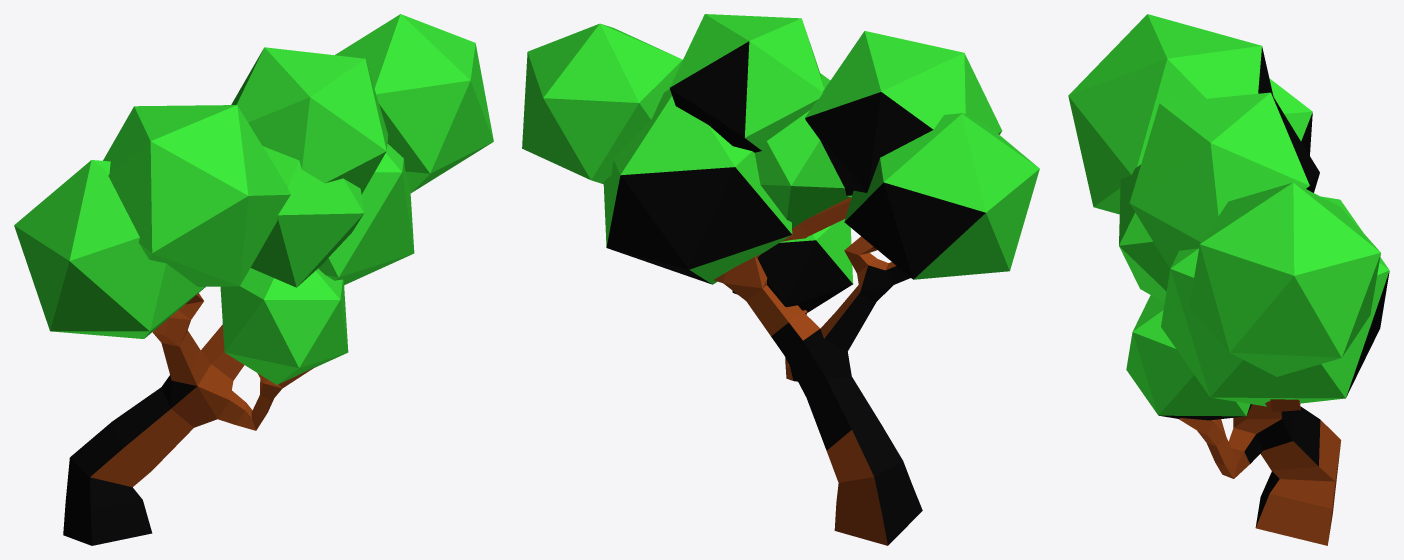
Rendered from arvore 1.fbx.
The picture shows the model from 3 angles, left to right: view 1: azimuth 30°, elevation 25°; view 2: azimuth 150°, elevation 25°; view 3: azimuth 270°, elevation 25°; orthographic projection. The views are drawn at different scales.
Parts seen in each view (by area): view 1: Icosphere, Plane, Icosphere.004, Icosphere.002, Icosphere.001, Icosphere.006, Icosphere.005, Icosphere.003; view 2: Icosphere.003, Plane, Icosphere.004, Icosphere.002, Icosphere, Icosphere.001, Icosphere.005, Icosphere.006; view 3: Icosphere.002, Icosphere.001, Icosphere, Plane, Icosphere.003, Icosphere.006, Icosphere.005, Icosphere.004.
Boxes of the visible parts, x1,y1,x2,y2 form: Icosphere: [103, 105, 290, 286]; Plane: [63, 293, 314, 545]; Icosphere.004: [14, 160, 205, 338]; Icosphere.002: [335, 14, 493, 192]; Icosphere.001: [231, 47, 388, 194]; Icosphere.006: [220, 268, 348, 384]; Icosphere.005: [250, 146, 364, 287]; Icosphere.003: [318, 143, 414, 285]; Icosphere.003: [603, 89, 792, 284]; Plane: [713, 197, 922, 545]; Icosphere.004: [844, 113, 1039, 279]; Icosphere.002: [522, 23, 682, 184]; Icosphere: [805, 31, 1002, 197]; Icosphere.001: [669, 14, 824, 152]; Icosphere.005: [754, 73, 849, 228]; Icosphere.006: [732, 219, 853, 312]; Icosphere.002: [1189, 182, 1380, 376]; Icosphere.001: [1129, 92, 1319, 267]; Icosphere: [1068, 14, 1273, 214]; Plane: [1179, 399, 1341, 545]; Icosphere.003: [1161, 196, 1389, 406]; Icosphere.006: [1126, 295, 1251, 420]; Icosphere.005: [1119, 164, 1170, 302]; Icosphere.004: [1269, 78, 1312, 155].
Bounding box in the file's own units: 511 × 482 × 273.
